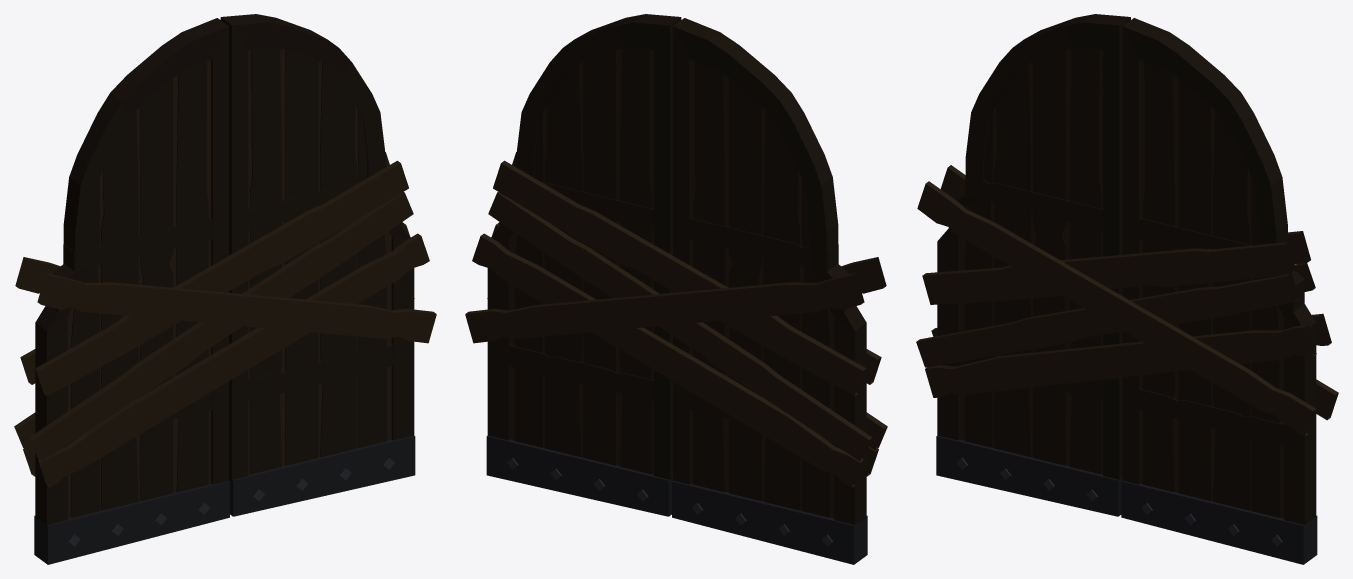
Rendered from Doors_RoundArch_Covered.obj.
3 views of the same model, side by side, from view 1: azimuth 30°, elevation 25°; view 2: azimuth 150°, elevation 25°; view 3: azimuth 330°, elevation 25° (orthographic).
Visible parts, largest first — view 1: Doors_RoundArch_Covered_Cylinder.001; view 2: Doors_RoundArch_Covered_Cylinder.001; view 3: Doors_RoundArch_Covered_Cylinder.001.
Boxes of the visible parts, box(x1,y1,x2,y2) form: Doors_RoundArch_Covered_Cylinder.001: box(14, 14, 436, 564); Doors_RoundArch_Covered_Cylinder.001: box(465, 14, 887, 564); Doors_RoundArch_Covered_Cylinder.001: box(916, 14, 1338, 564).
Size of the model in its own units: 2.52 by 2.97 by 0.2789.
